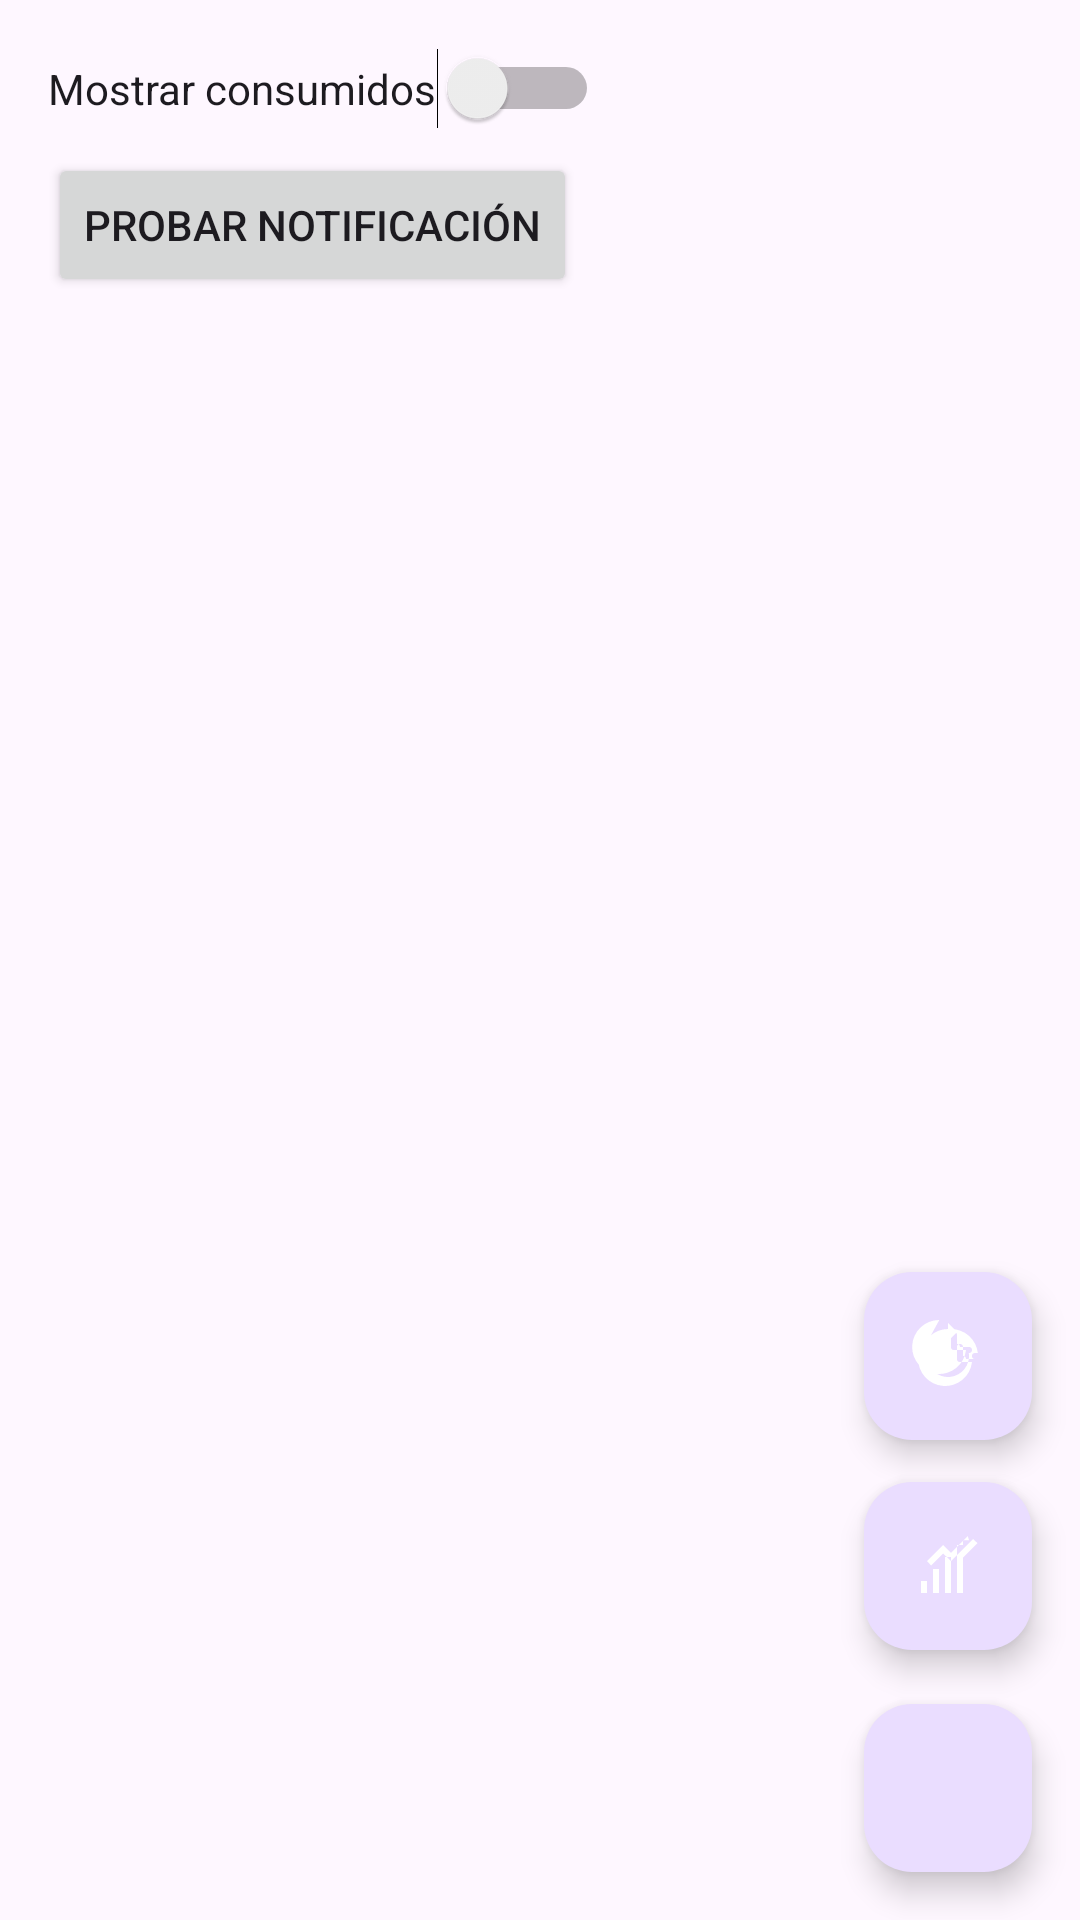

Icon click points for this 1080 x 1920 phone screenshot, format [x,y]:
Estadísticas: [948,1566]
